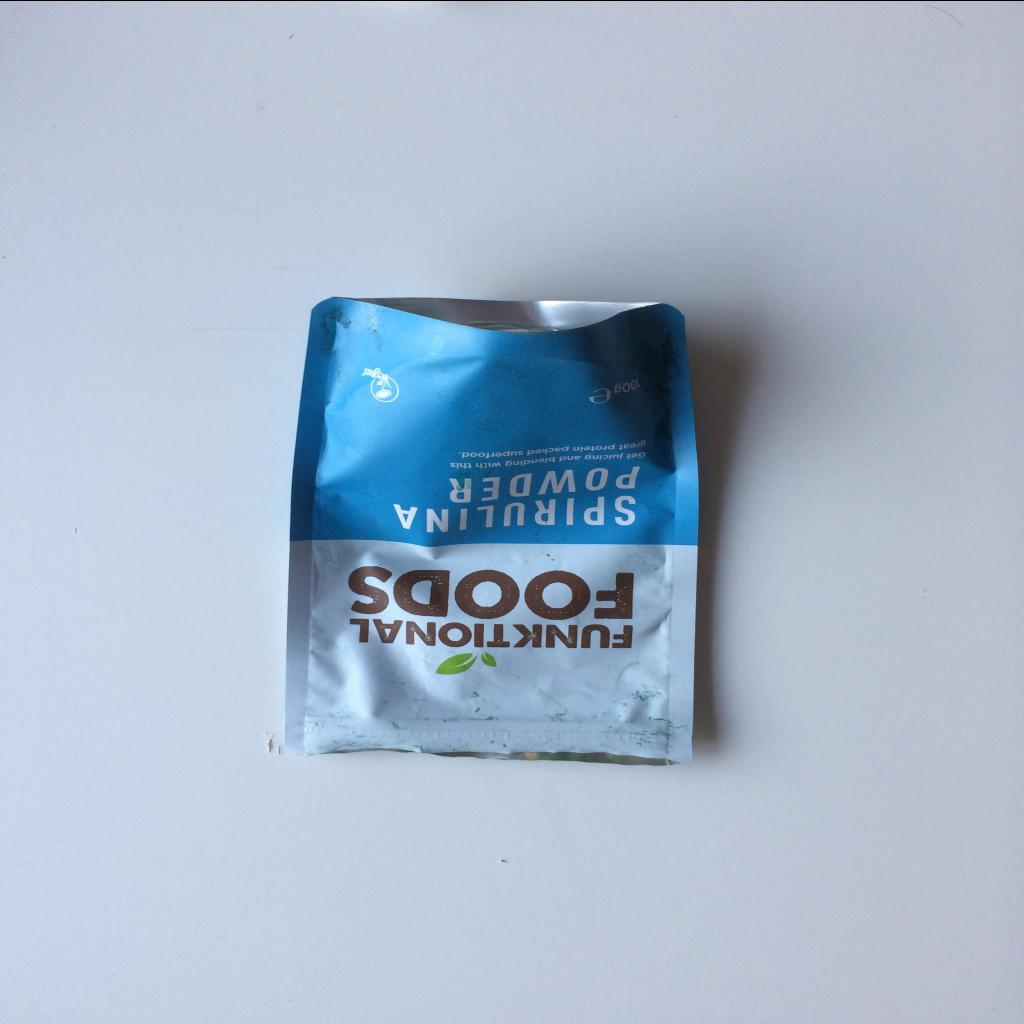Other plastic: (284, 295, 698, 765)
